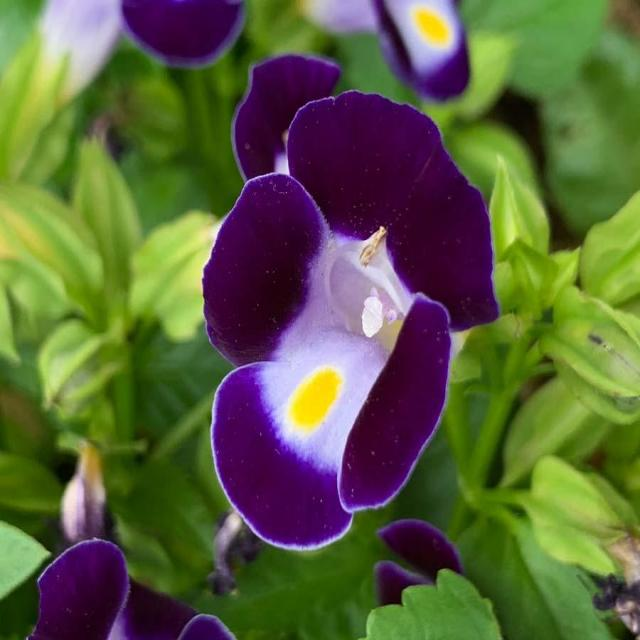organic waste: (192, 78, 509, 548)
